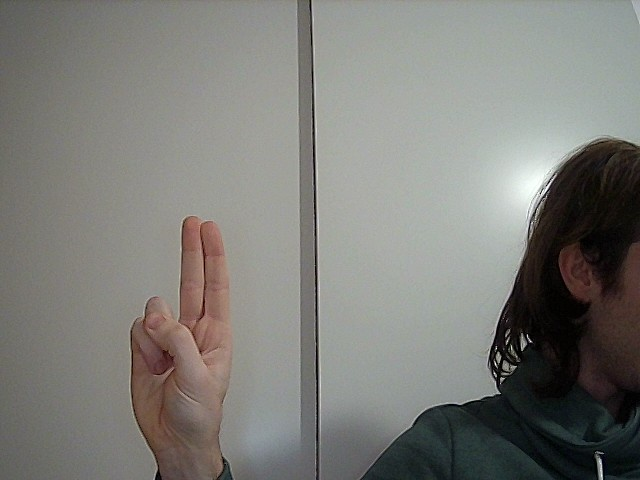u: (105, 202, 244, 444)
